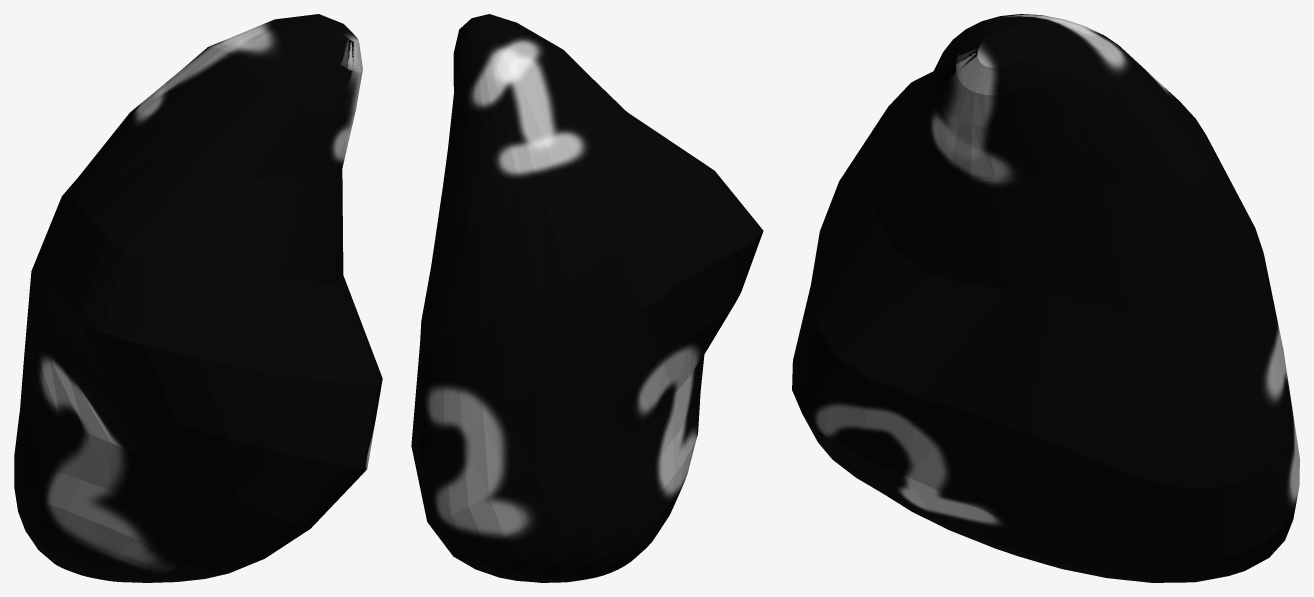
Rendered from mango.dae.
3 renders of one model, left to right at view 1: azimuth 30°, elevation 25°; view 2: azimuth 150°, elevation 25°; view 3: azimuth 270°, elevation 25°, orthographic. The views are drawn at different scales.
Parts seen in each view (by area): view 1: Sphere; view 2: Sphere; view 3: Sphere.
Part boxes in pixels (left/top/right/bottom): Sphere: left=14, top=14, right=382, bottom=582; Sphere: left=411, top=14, right=763, bottom=582; Sphere: left=792, top=14, right=1299, bottom=582.
Size of the model in its own units: 3.27 by 4.21 by 5.64.
2 materials, 2 textured.
